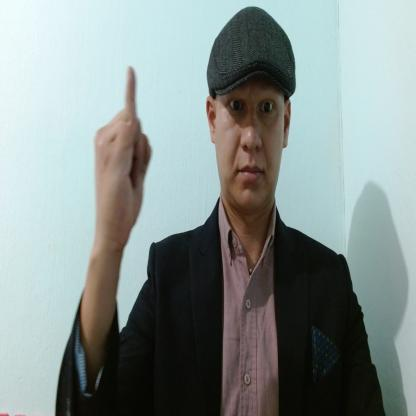I: (92, 63, 154, 247)
